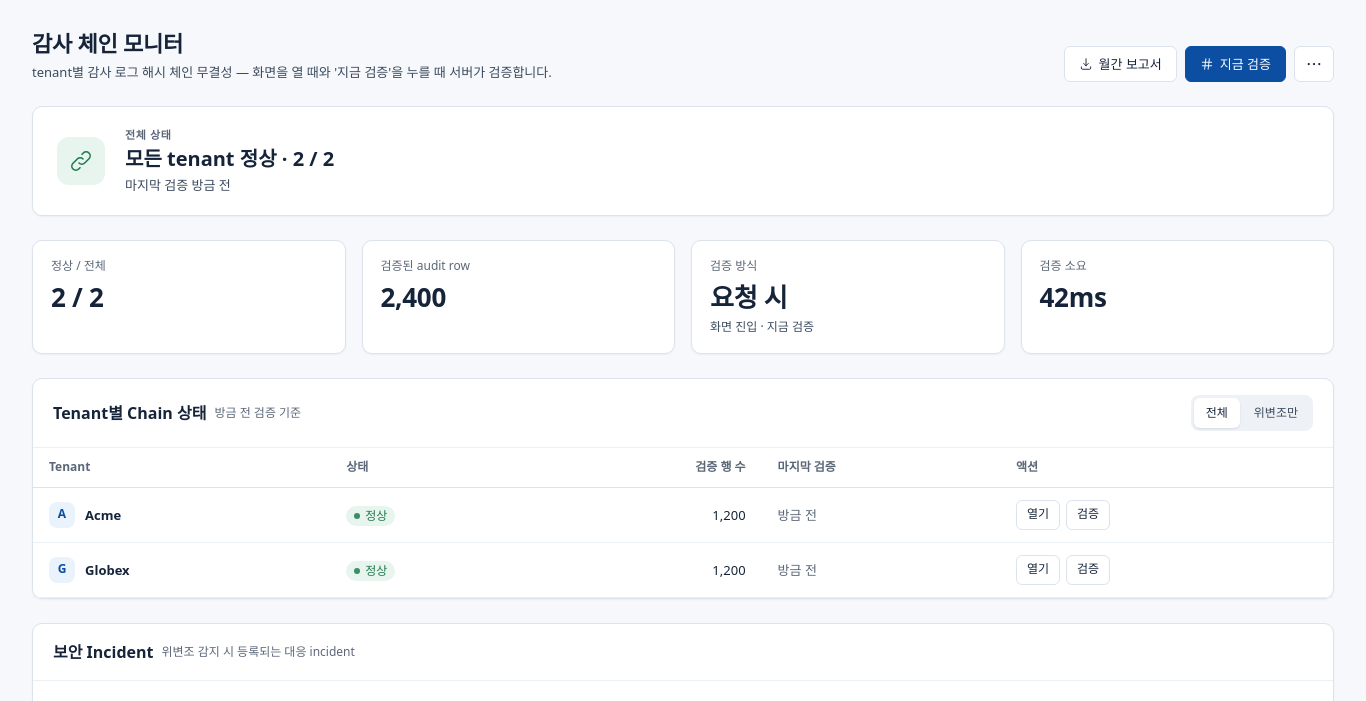
Test case: AuditChainPage V2 › 월간 보고서 다이얼로그는 tenant 체크박스 없이 포함 목록만 보인다
Check: the text "Acme" is shown, box 85,505 -> 121,525
Click the button "월간 보고서". click: click(1120, 64)
box: 1064,46 -> 1177,82
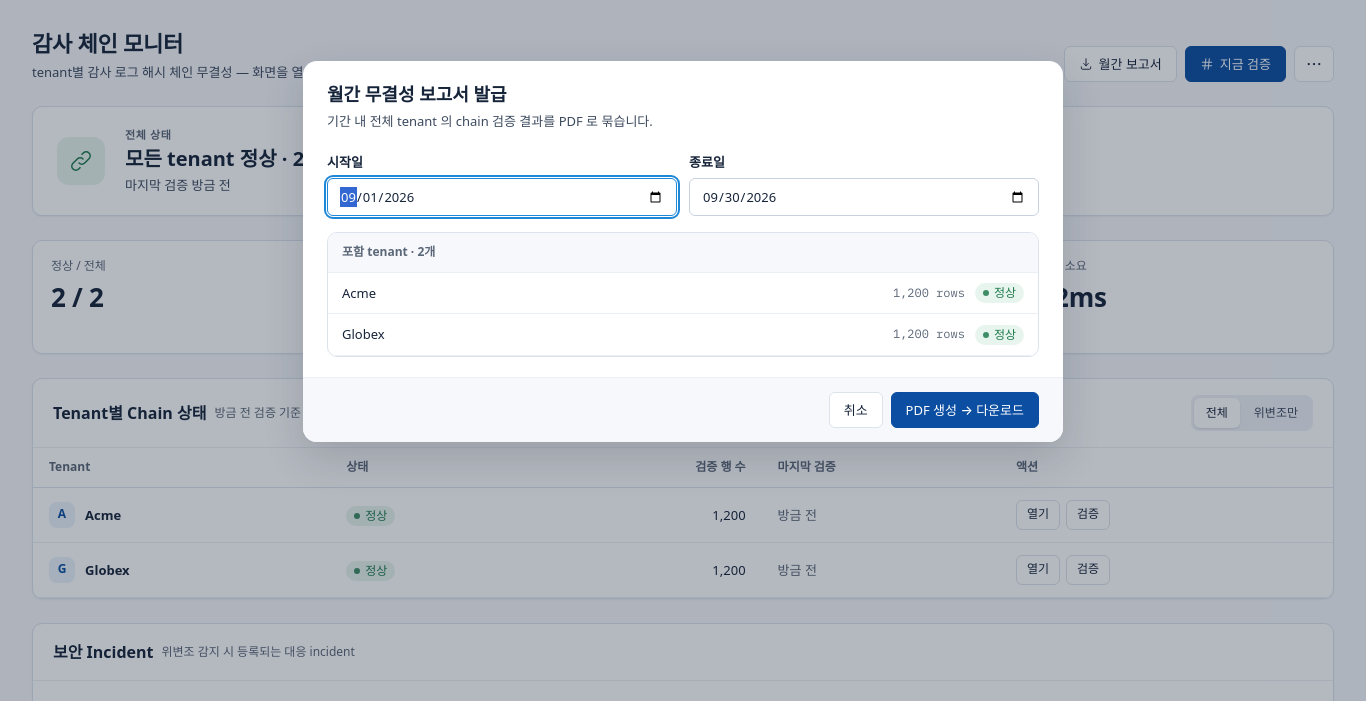
Check: the text "포함 tenant · 2개" is shown, box 328,233 -> 1038,273
Check: the button "PDF 생성 → 다운로드" is enabled, box 891,392 -> 1039,428
